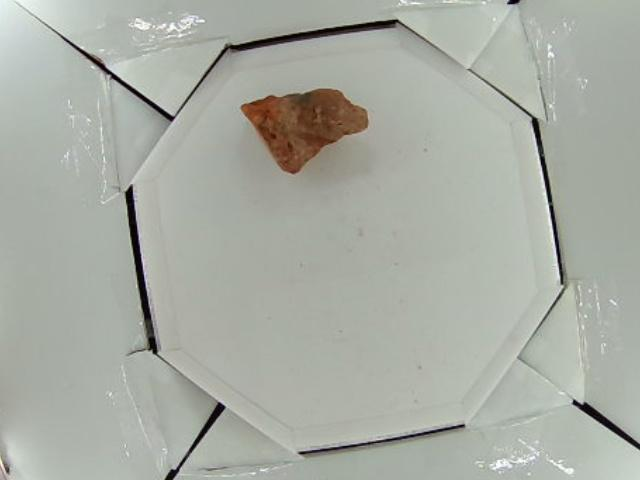Brisk: (240, 89, 368, 175)
